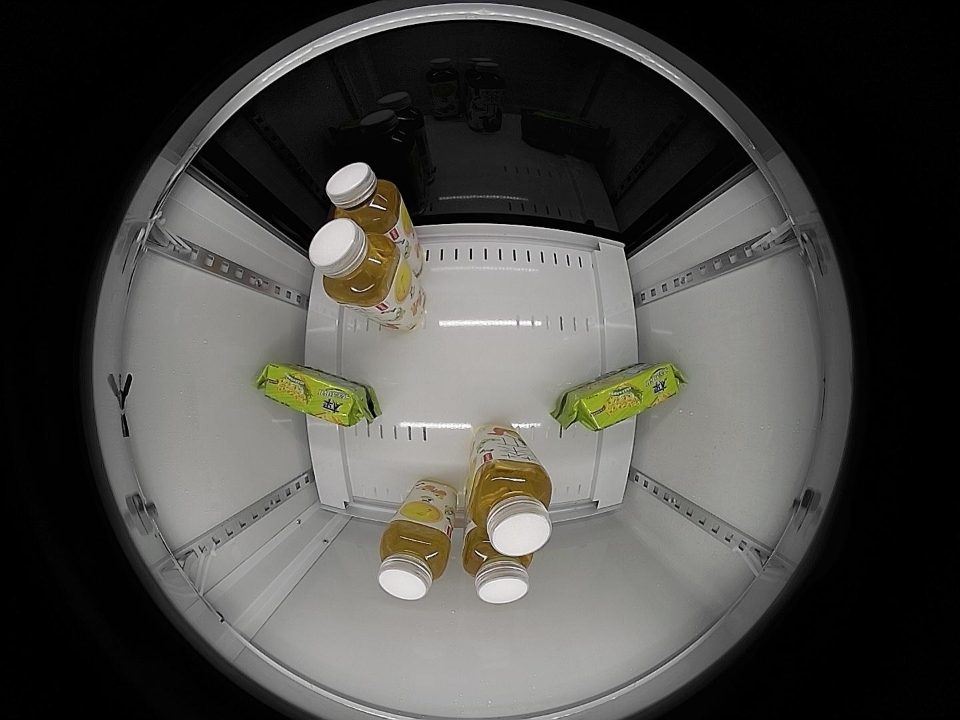chapai2: (466, 460, 554, 557), (309, 218, 401, 308), (378, 517, 452, 600), (326, 162, 406, 235), (462, 531, 534, 604)
taipingshuda: (550, 362, 686, 432), (255, 363, 382, 425)
